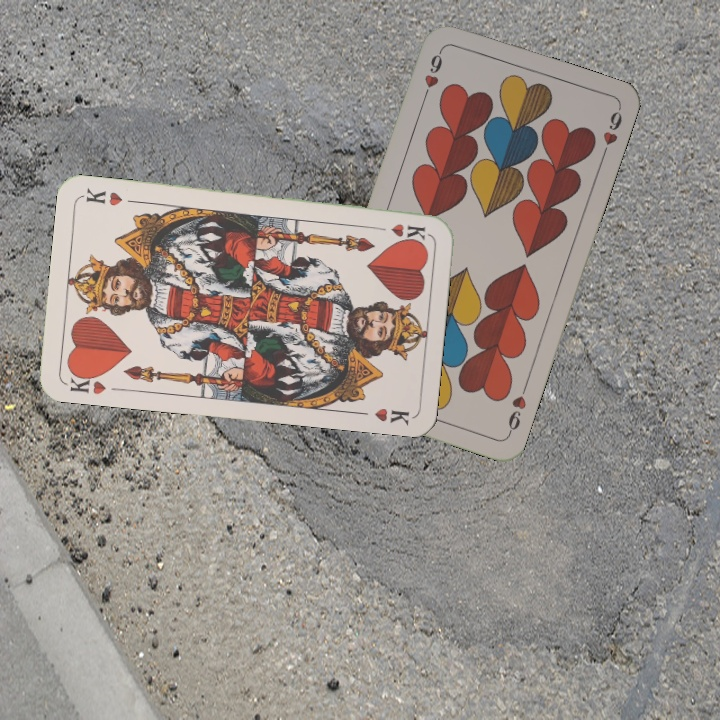H9: (418, 45, 445, 103), (504, 380, 530, 438)
HK: (370, 219, 428, 243), (63, 367, 109, 397)
